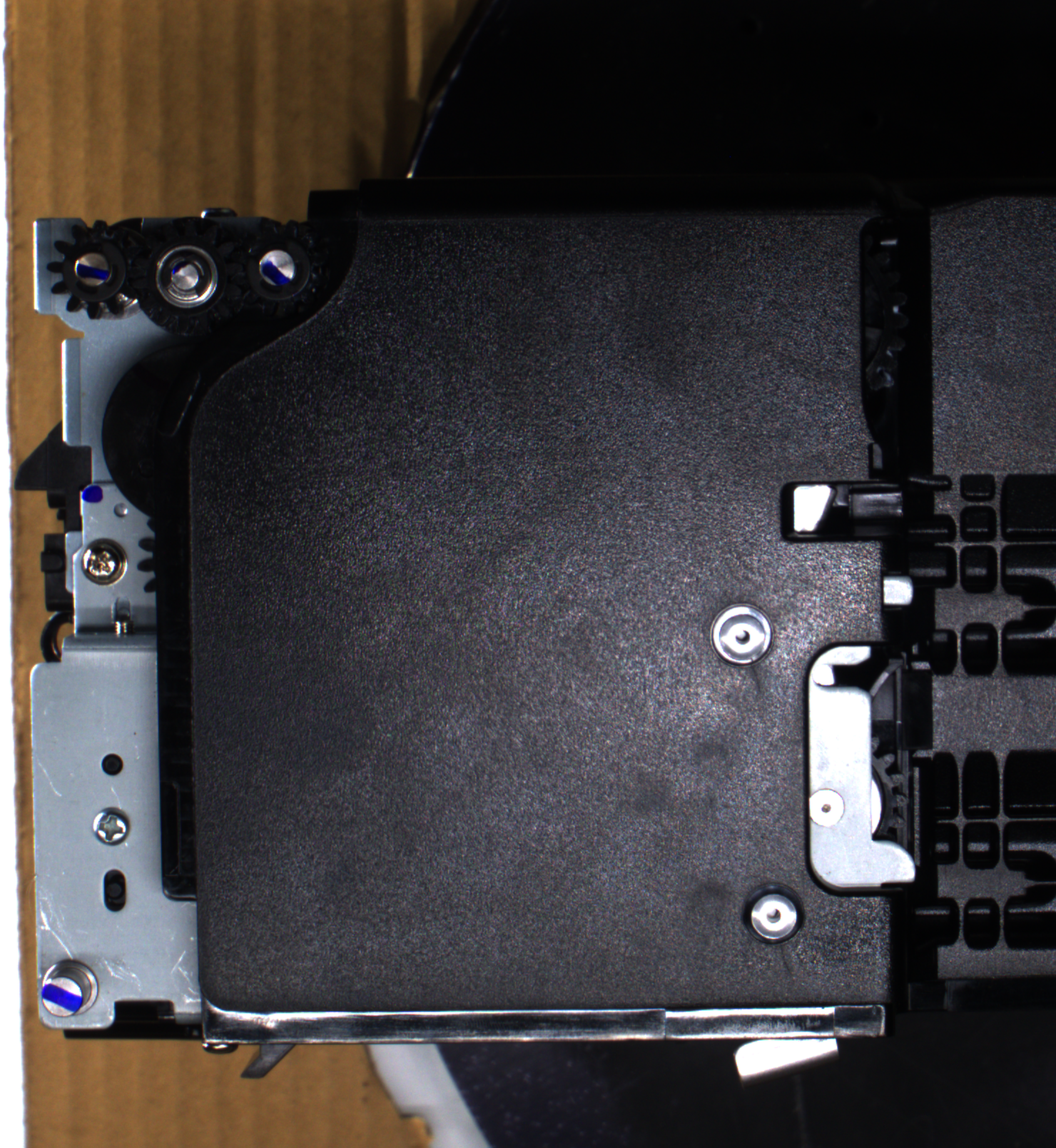centre_pin_presence: (726, 1019, 846, 1086)
centre_plate_presence: (796, 636, 926, 903)
centre_screw_presence: (706, 595, 780, 673), (736, 874, 809, 950)
gear1_presence: (44, 216, 146, 322)
gear2_presence: (130, 214, 246, 338)
gear3_presence: (227, 216, 327, 322)
side_screw_presence: (76, 535, 130, 587), (89, 805, 134, 847)
slanting_pin_presence: (37, 955, 107, 1025)
